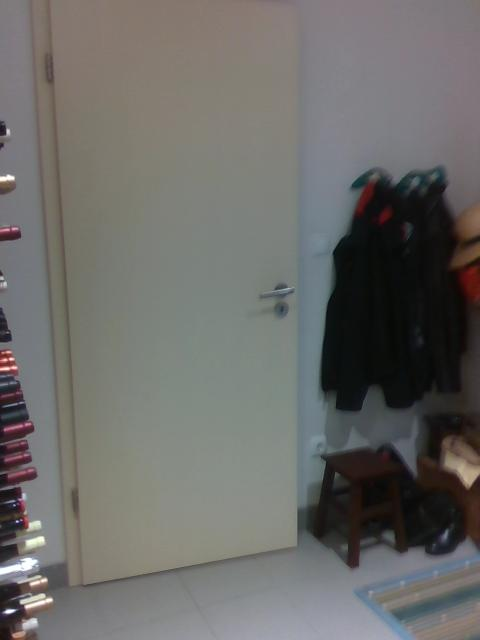door: (47, 1, 297, 588)
